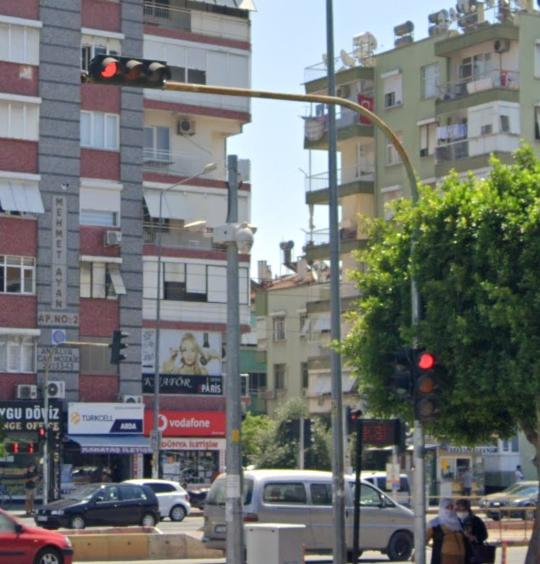redlight: (90, 53, 169, 89), (412, 346, 438, 422), (38, 425, 47, 447)
